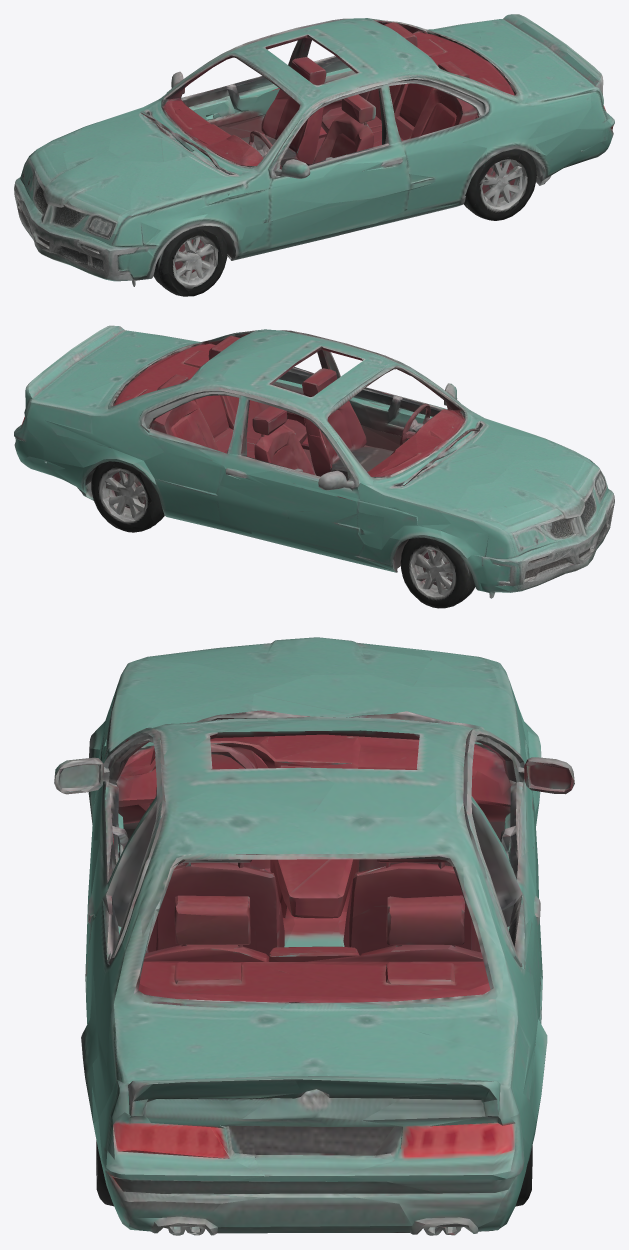
3 views of the same model, one above another, from view 1: azimuth 30°, elevation 25°; view 2: azimuth 150°, elevation 25°; view 3: azimuth 270°, elevation 25° (orthographic). The views are drawn at different scales.
Size of the model in its own units: 1.9 by 0.5476 by 0.8066.
1 material, 1 textured.
